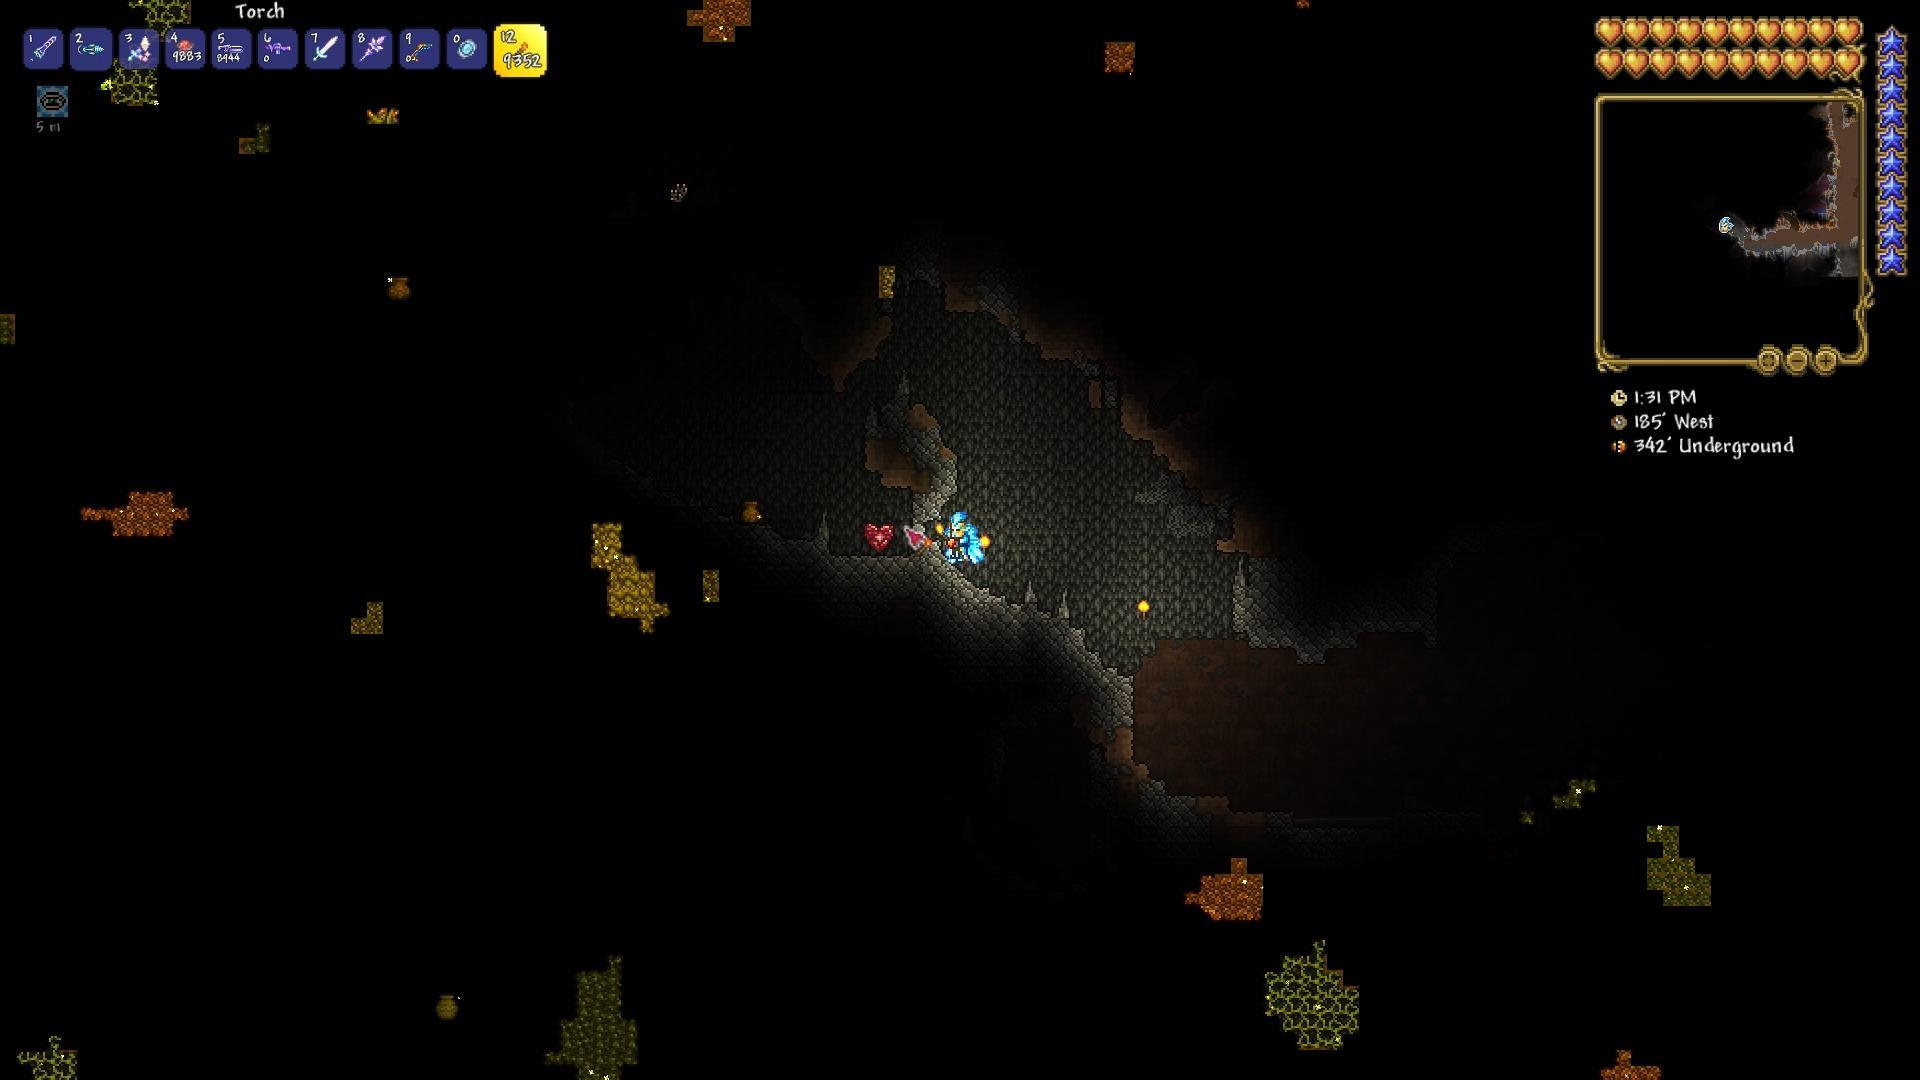lifeC: (858, 516, 895, 554)
pot: (381, 266, 411, 302), (433, 989, 465, 1021), (738, 495, 769, 529)
